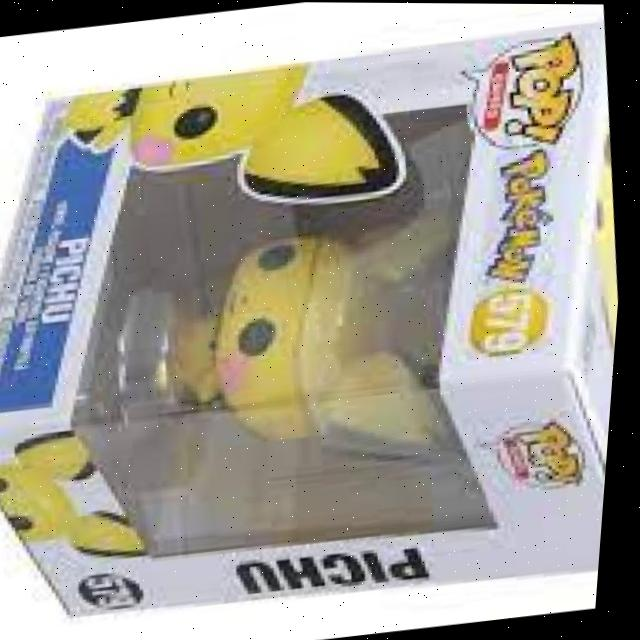pichu: (132, 178, 464, 488), (45, 15, 422, 228), (0, 416, 127, 638), (558, 104, 634, 379)
